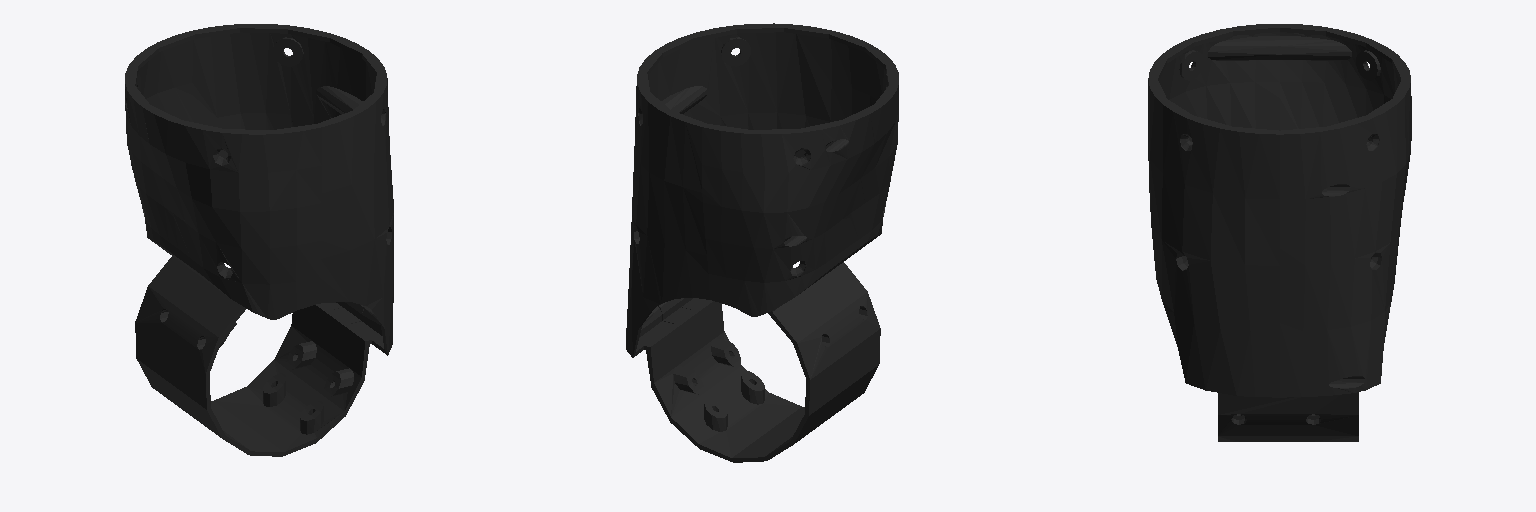
Rendered from asm0001_vrml_18_prt.obj.
3 renders of one model, left to right at view 1: azimuth 30°, elevation 25°; view 2: azimuth 150°, elevation 25°; view 3: azimuth 270°, elevation 25°, orthographic.
Parts seen in each view (by area): view 1: ShapeIndexedFaceSet.001_ShapeIndexedFaceSet.051, ShapeIndexedFaceSet.002_ShapeIndexedFaceSet, ShapeIndexedFaceSet_ShapeIndexedFaceSet.050; view 2: ShapeIndexedFaceSet_ShapeIndexedFaceSet.050, ShapeIndexedFaceSet.002_ShapeIndexedFaceSet, ShapeIndexedFaceSet.001_ShapeIndexedFaceSet.051; view 3: ShapeIndexedFaceSet.001_ShapeIndexedFaceSet.051, ShapeIndexedFaceSet_ShapeIndexedFaceSet.050, ShapeIndexedFaceSet.002_ShapeIndexedFaceSet.
Part boxes in pixels (left/top/right/bottom): ShapeIndexedFaceSet.001_ShapeIndexedFaceSet.051: left=142, top=51, right=393, bottom=355; ShapeIndexedFaceSet.002_ShapeIndexedFaceSet: left=135, top=256, right=371, bottom=456; ShapeIndexedFaceSet_ShapeIndexedFaceSet.050: left=125, top=24, right=368, bottom=309; ShapeIndexedFaceSet_ShapeIndexedFaceSet.050: left=626, top=51, right=881, bottom=357; ShapeIndexedFaceSet.002_ShapeIndexedFaceSet: left=644, top=262, right=880, bottom=462; ShapeIndexedFaceSet.001_ShapeIndexedFaceSet.051: left=655, top=23, right=898, bottom=309; ShapeIndexedFaceSet.001_ShapeIndexedFaceSet.051: left=1148, top=24, right=1279, bottom=397; ShapeIndexedFaceSet_ShapeIndexedFaceSet.050: left=1280, top=24, right=1411, bottom=397; ShapeIndexedFaceSet.002_ShapeIndexedFaceSet: left=1218, top=392, right=1358, bottom=441.
Size of the model in its own units: 2.79 by 4.15 by 2.8.